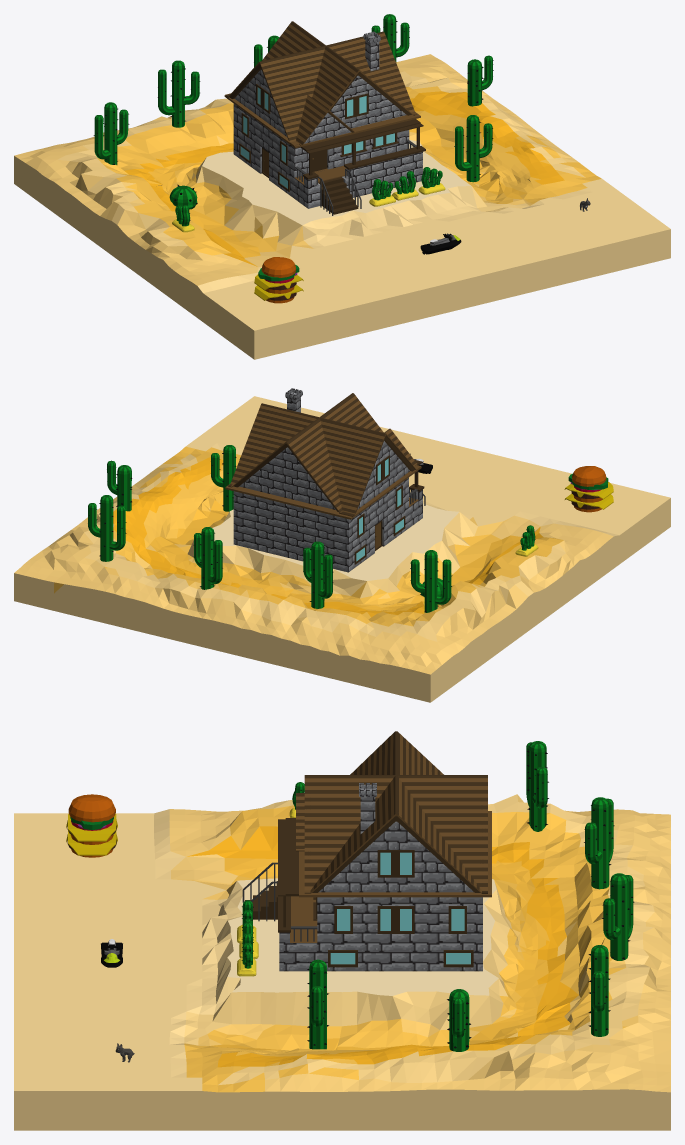
3 views of the same model, one above another, from view 1: azimuth 30°, elevation 25°; view 2: azimuth 150°, elevation 25°; view 3: azimuth 270°, elevation 25° (orthographic). The views are drawn at different scales.
Visible parts, largest first — view 1: Cube.001, Cube.586, OBJRANDOM_HAMBURGER, Cylinder.037, Cylinder.044, Cylinder.045, Cylinder.038, Cylinder.042, Cylinder.039, Cylinder.041, Sphere.023, Cylinder.040; view 2: Cube.001, Cube.586, OBJRANDOM_HAMBURGER, Cylinder.042, Cylinder.045, Cylinder.044, Cylinder.043, Cylinder.037, Cylinder.038; view 3: Cube.001, Cube.586, OBJRANDOM_HAMBURGER, Cylinder.043, Cylinder.044, Cylinder.045, Cylinder.042, Cylinder.037, Cylinder.038, Cylinder.041.
Part boxes in pixels (x1,y1,x2,y2): Cube.001: (14,54,670,359); Cube.586: (224,21,425,215); OBJRANDOM_HAMBURGER: (254,257,303,303); Cylinder.037: (454,115,493,182); Cylinder.044: (157,60,200,127); Cylinder.045: (93,102,129,164); Cylinder.038: (467,55,493,106); Cylinder.042: (371,14,409,62); Cylinder.039: (369,179,395,206); Cylinder.041: (418,167,445,194); Sphere.023: (169,184,197,209); Cylinder.040: (392,171,418,200); Cube.001: (14,396,670,702); Cube.586: (225,388,425,572); OBJRANDOM_HAMBURGER: (564,466,613,512); Cylinder.042: (88,495,126,561); Cylinder.045: (410,550,452,612); Cylinder.044: (303,541,333,608); Cylinder.043: (193,527,222,589); Cylinder.037: (211,445,240,511); Cylinder.038: (107,460,132,511); Cube.001: (14,794,670,1130); Cube.586: (242,731,491,971); OBJRANDOM_HAMBURGER: (66,794,117,857); Cylinder.043: (602,873,634,960); Cylinder.044: (584,797,614,889); Cylinder.045: (526,741,548,831); Cylinder.042: (588,945,610,1036); Cylinder.037: (307,959,328,1049); Cylinder.038: (447,989,471,1051); Cylinder.041: (237,933,256,976).
Bounding box in the file's own units: 4002 × 1614 × 4001.
Materials: 30 (3 with a texture image).
